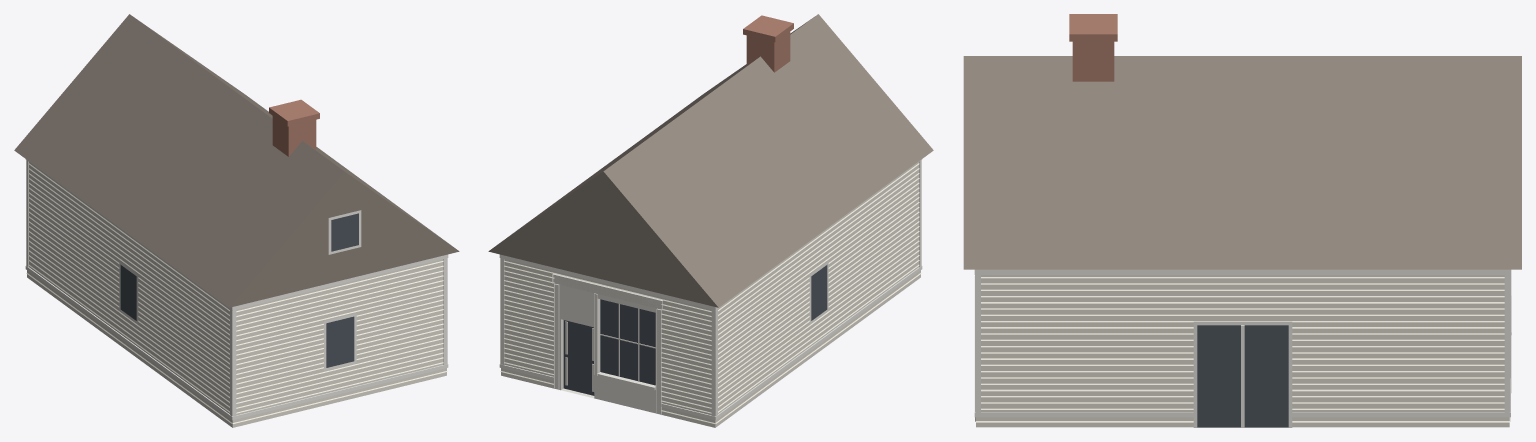
File: recon_1835_blk_randolph_clark_c2_01__inferred_1835.glb
3 views of the same model, side by side, from view 1: azimuth 30°, elevation 25°; view 2: azimuth 150°, elevation 25°; view 3: azimuth 270°, elevation 25° (orthographic). The views are drawn at different scales.
Parts seen in each view (by area): view 1: recon_1835_blk_randolph_clark_c2_01__inferred_1835; view 2: recon_1835_blk_randolph_clark_c2_01__inferred_1835; view 3: recon_1835_blk_randolph_clark_c2_01__inferred_1835.
Boxes of the visible parts, x1,y1,x2,y2 form: recon_1835_blk_randolph_clark_c2_01__inferred_1835: (14, 14, 459, 427); recon_1835_blk_randolph_clark_c2_01__inferred_1835: (488, 14, 933, 427); recon_1835_blk_randolph_clark_c2_01__inferred_1835: (963, 14, 1521, 427).
Size of the model in its own units: 7 by 7.49 by 11.34.
